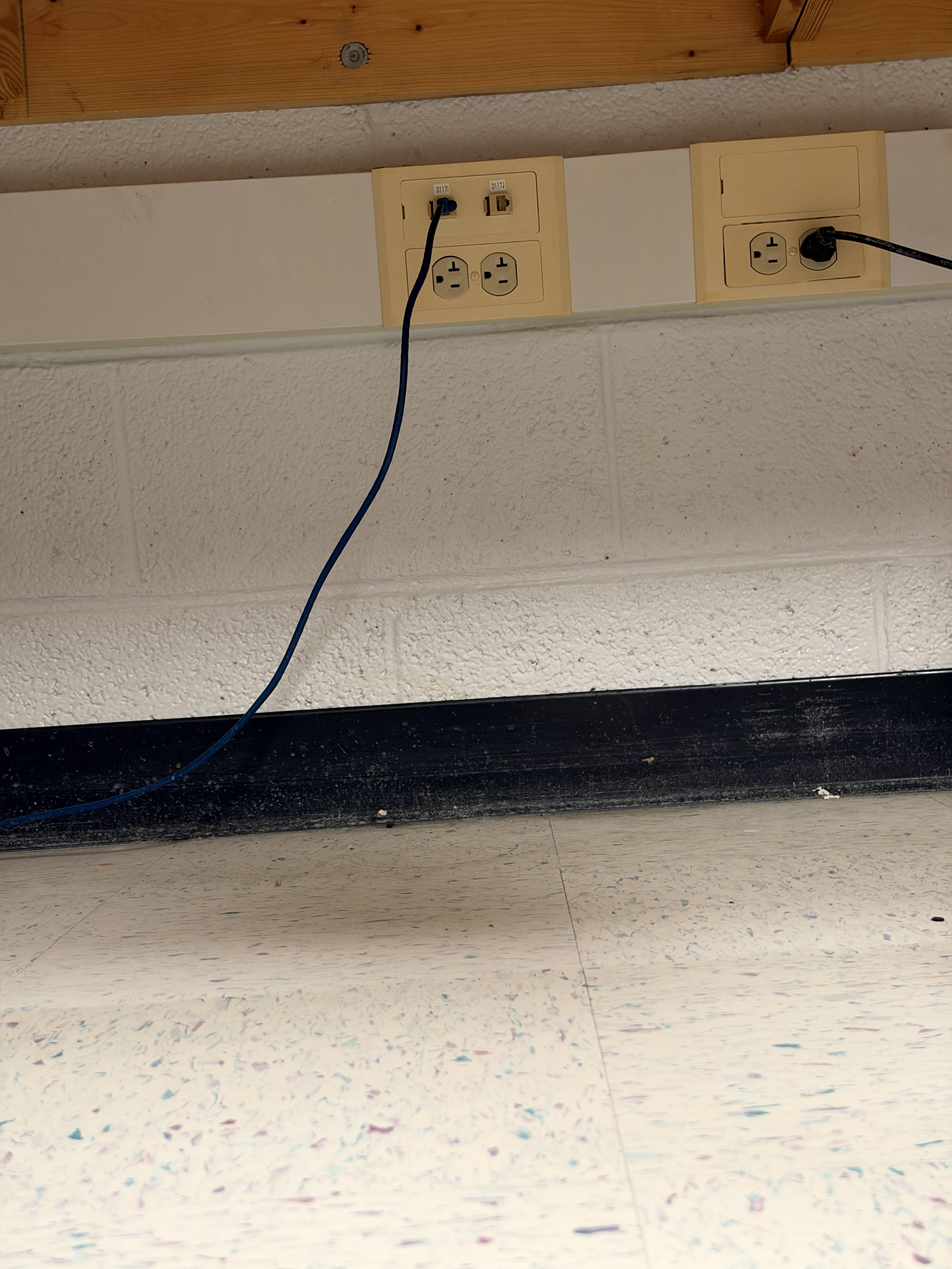outlet: (689, 131, 898, 302), (369, 155, 576, 327)
